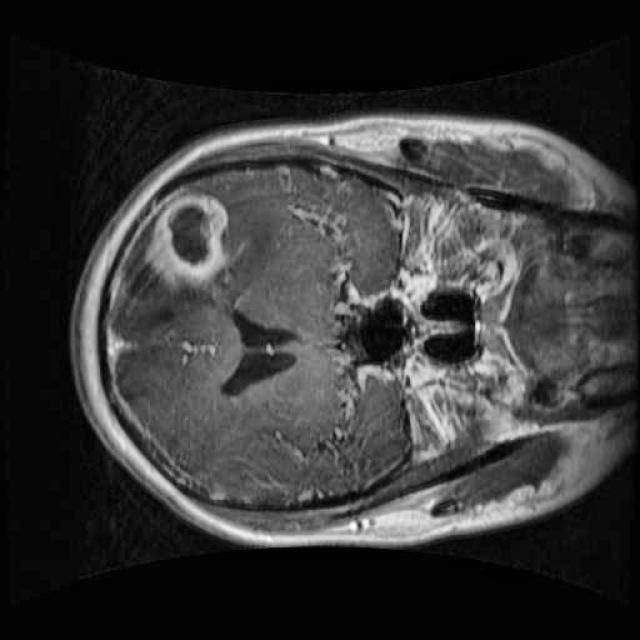Non-Tumor: (139, 181, 249, 299)
